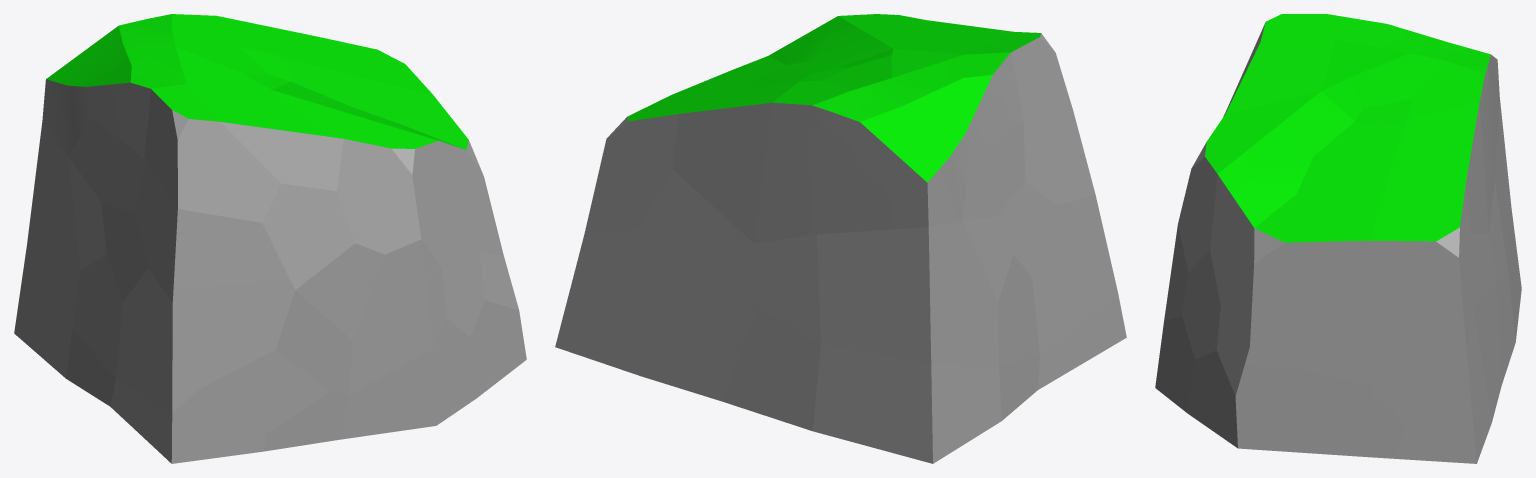
File: rock_beach_medium_D.fbx
The picture shows the model from 3 angles, left to right: view 1: azimuth 30°, elevation 25°; view 2: azimuth 150°, elevation 25°; view 3: azimuth 270°, elevation 25°; orthographic projection. The views are drawn at different scales.
Visible parts, largest first — view 1: rock_beach_medium_D; view 2: rock_beach_medium_D; view 3: rock_beach_medium_D.
Part boxes in pixels (x1,y1,x2,y2): rock_beach_medium_D: (14,14,526,463); rock_beach_medium_D: (555,14,1126,463); rock_beach_medium_D: (1155,14,1521,463).
Bounding box in the file's own units: 81.12 × 59.89 × 69.
